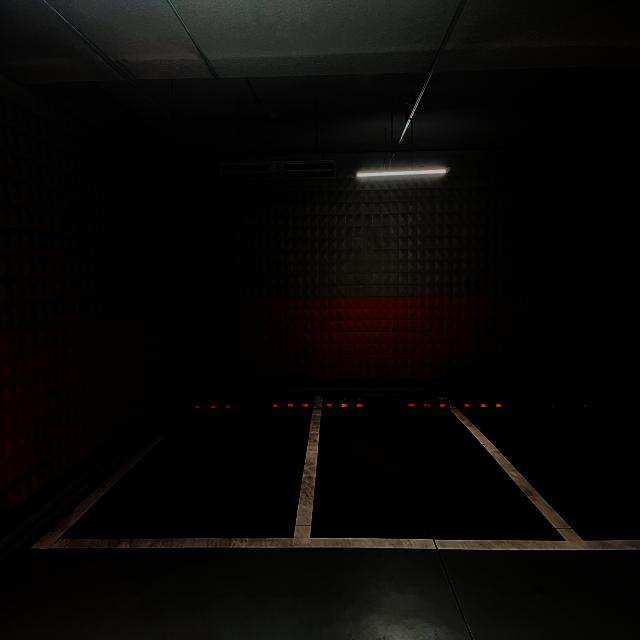empty: (8, 387, 319, 543), (306, 398, 585, 554), (485, 394, 636, 547)
